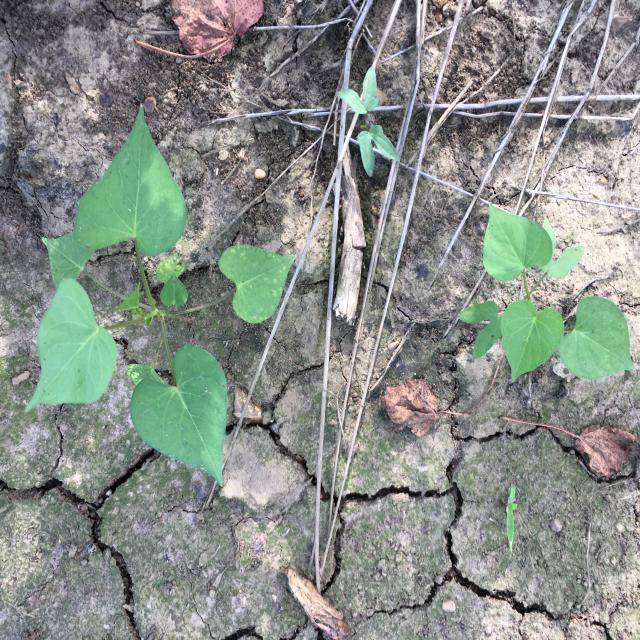MorningGlory: (25, 103, 298, 488), (457, 202, 635, 384), (335, 66, 400, 177)
